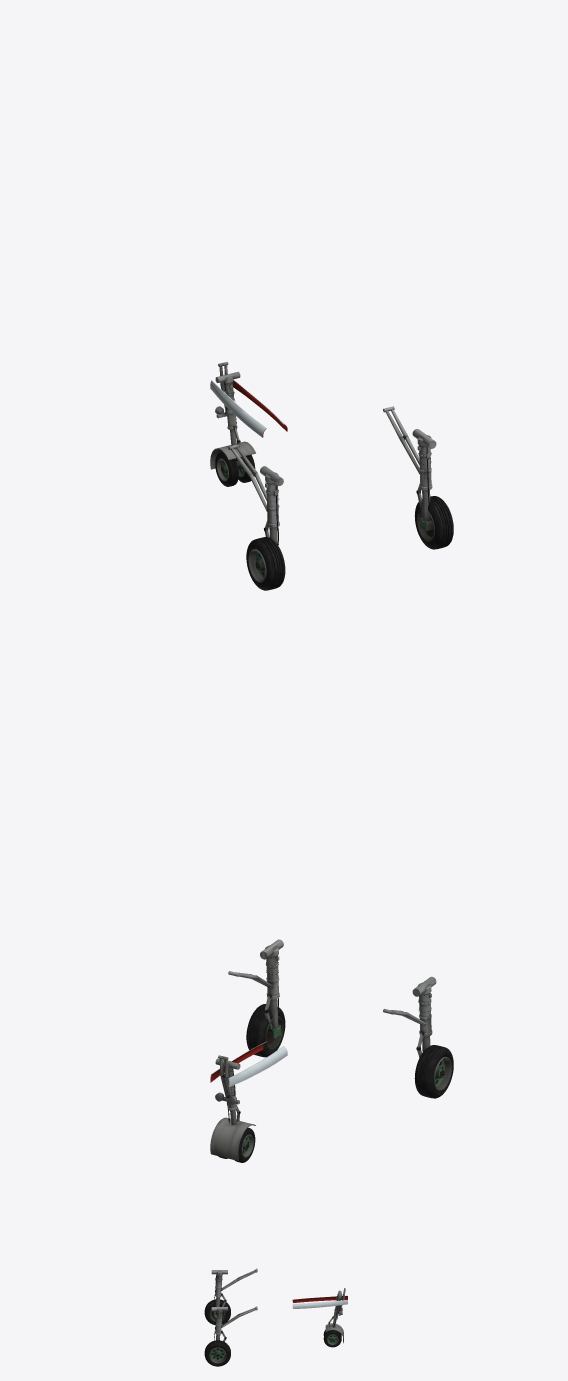
The model's file is mig29_gear.glb.
3 renders of one model, top to bottom at view 1: azimuth 30°, elevation 25°; view 2: azimuth 150°, elevation 25°; view 3: azimuth 270°, elevation 25°, orthographic. The views are drawn at different scales.
Visible parts, largest first — view 1: body|M29_paint; view 2: body|M29_paint; view 3: body|M29_paint.
Part boxes in pixels (bbox=[...]): body|M29_paint: bbox=[210, 361, 453, 590]; body|M29_paint: bbox=[210, 939, 453, 1162]; body|M29_paint: bbox=[204, 1268, 347, 1366].
Bounding box in the file's own units: 3.43 × 5.38 × 17.16.
Materials: 2 (1 with a texture image).
